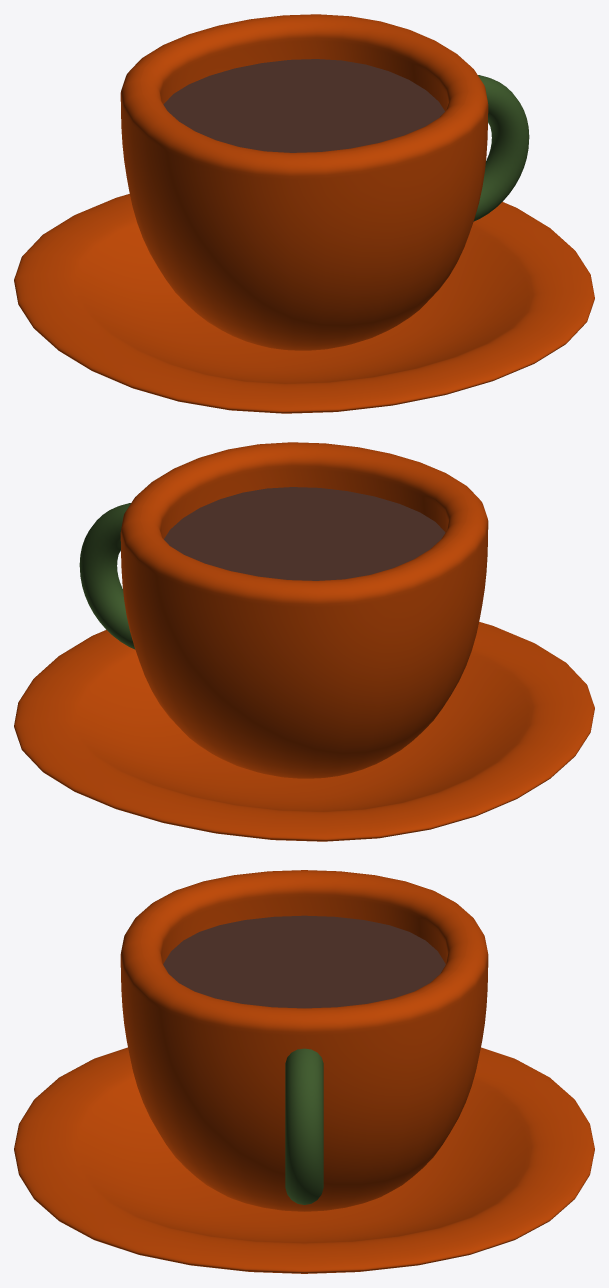
The model's file is cup.glb.
3 renders of one model, top to bottom at view 1: azimuth 30°, elevation 25°; view 2: azimuth 150°, elevation 25°; view 3: azimuth 270°, elevation 25°, orthographic. The views are drawn at different scales.
Visible parts, largest first — view 1: 立方体, 立方体.001, 円, トーラス.001; view 2: 立方体, 立方体.001, 円, トーラス.001; view 3: 立方体, 立方体.001, 円, トーラス.001.
Boxes of the visible parts, left/top/right/bottom form: 立方体: left=120, top=14, right=488, bottom=350; 立方体.001: left=14, top=194, right=594, bottom=413; 円: left=163, top=59, right=444, bottom=152; トーラス.001: left=473, top=75, right=529, bottom=221; 立方体: left=120, top=442, right=488, bottom=778; 立方体.001: left=14, top=622, right=594, bottom=841; 円: left=164, top=487, right=445, bottom=580; トーラス.001: left=79, top=503, right=135, bottom=649; 立方体: left=120, top=870, right=488, bottom=1211; 立方体.001: left=14, top=1047, right=594, bottom=1273; 円: left=163, top=915, right=445, bottom=1008; トーラス.001: left=285, top=1048, right=323, bottom=1204.
Size of the model in its own units: 2.9 by 1.44 by 2.9.
